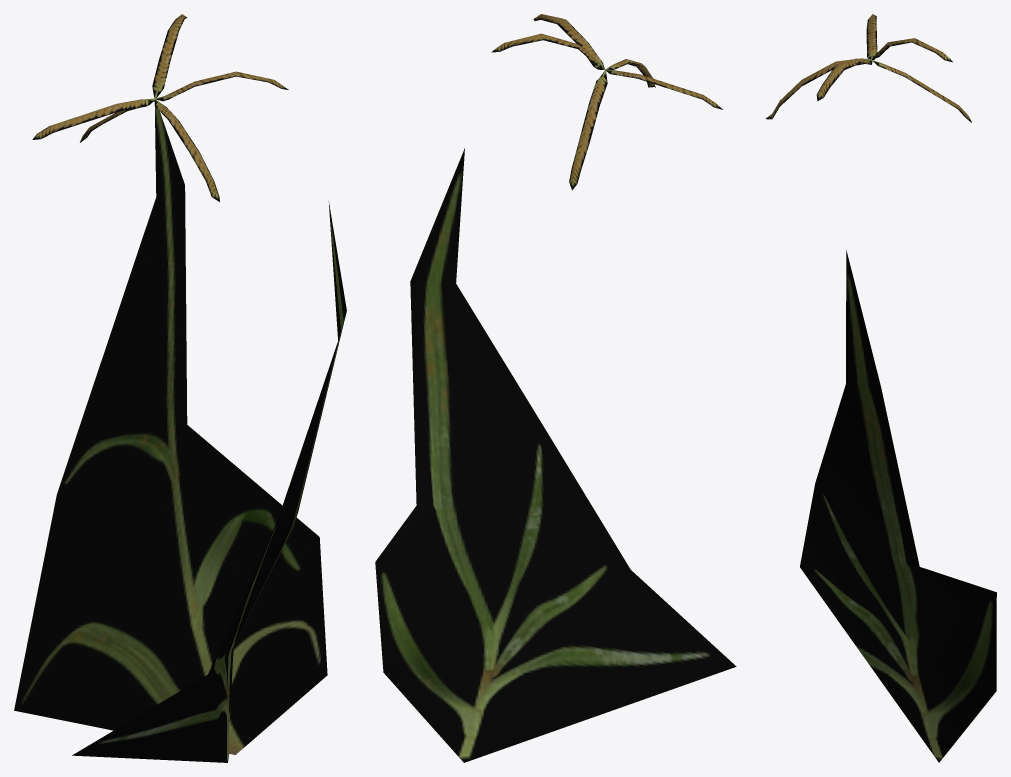
Rendered from grass_a_far.gltf.
The picture shows the model from 3 angles, left to right: view 1: azimuth 30°, elevation 25°; view 2: azimuth 150°, elevation 25°; view 3: azimuth 270°, elevation 25°; orthographic projection. The views are drawn at different scales.
Visible parts, largest first — view 1: grass_a_far; view 2: grass_a_far; view 3: grass_a_far.
Boxes of the visible parts, left/top/right/bottom form: grass_a_far: left=14, top=14, right=346, bottom=762; grass_a_far: left=375, top=14, right=736, bottom=762; grass_a_far: left=766, top=14, right=996, bottom=762.
Bounding box in the file's own units: 0.1439 × 0.32 × 0.0967.
1 material, 1 textured.
